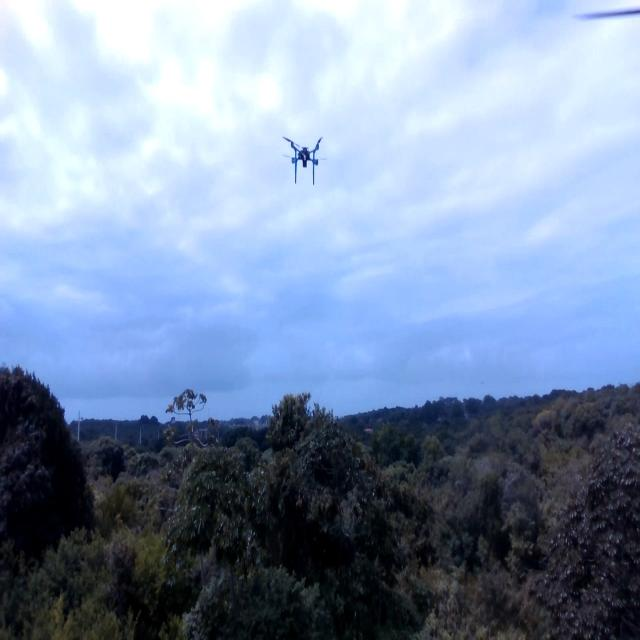-uav-: (278, 124, 334, 204)
